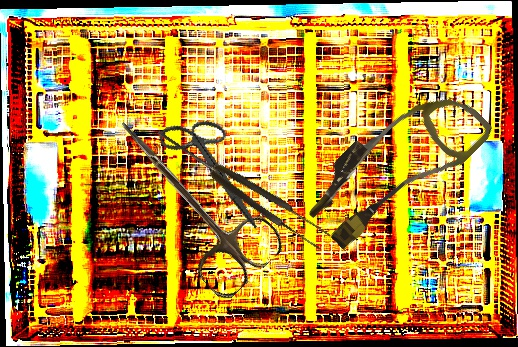Cannula: (294, 65, 497, 267)
Iris Scissors: (86, 96, 290, 304), (140, 105, 287, 230)
Tissue Forceps: (152, 121, 332, 253)
